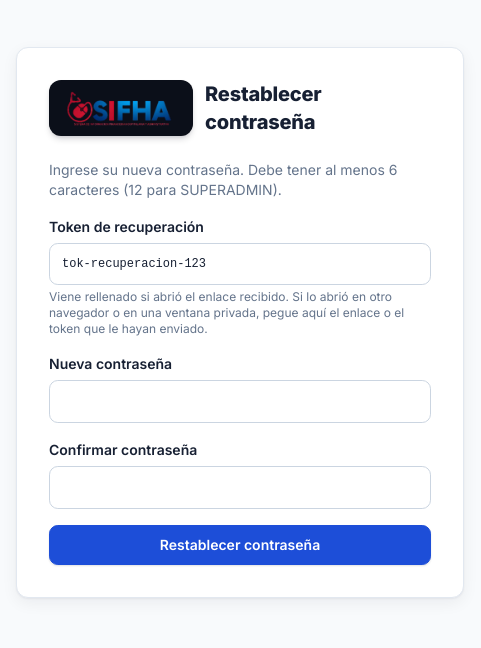
ResetPassword › descarta un token inválido o expirado y deja el campo listo
The width and height of the screenshot is (481, 648).
Expected: the field labelled "Token de recuperación" holds "tok-recuperacion-123", left=49, top=242, right=431, bottom=284
Type "NuevaClave123!" into the password field labelled "Nueva contraseña". click: (240, 401)
box: left=49, top=380, right=431, bottom=422
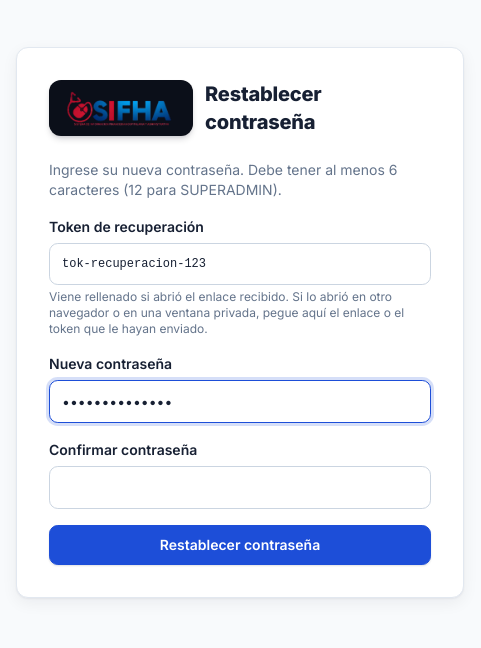
Type "NuevaClave123!" into the password field labelled "Confirmar contraseña". click: (240, 487)
box: left=49, top=466, right=431, bottom=508
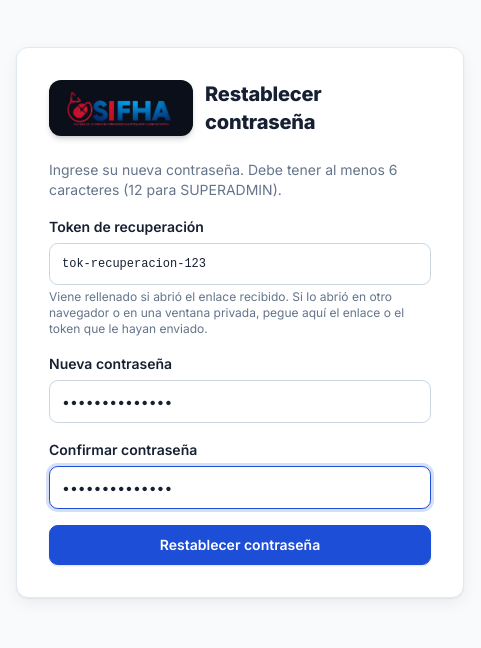
Click the button "Restablecer contraseña". click: (240, 544)
box: left=49, top=524, right=431, bottom=564
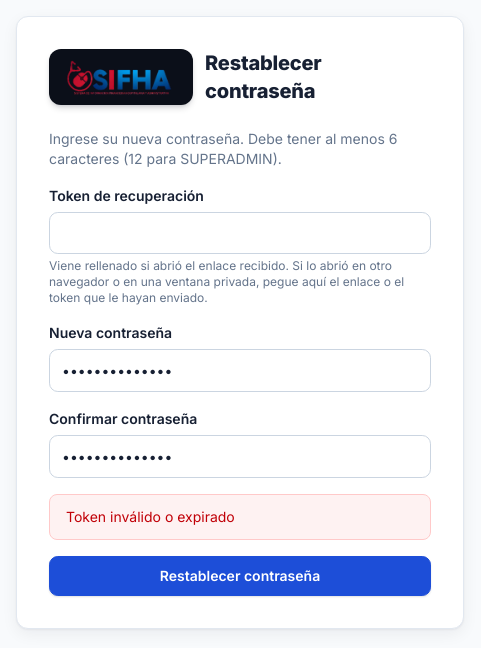
Now the text "Token inválido o expirado" is shown, box left=49, top=494, right=431, bottom=540
Now the field labelled "Token de recuperación" is empty, box left=49, top=212, right=431, bottom=254
